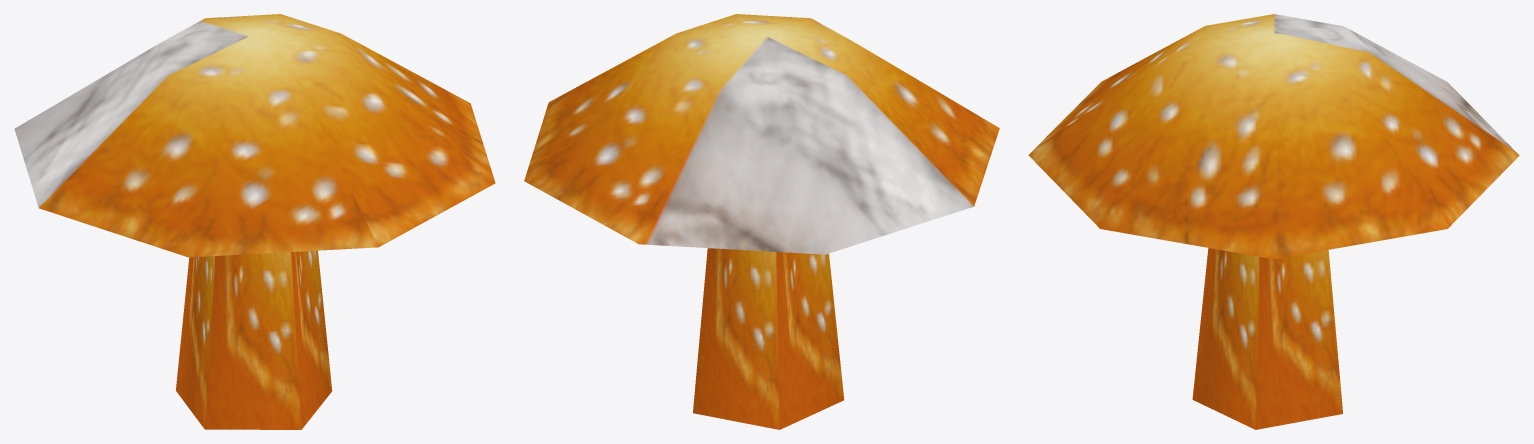
The picture shows the model from 3 angles, left to right: view 1: azimuth 30°, elevation 25°; view 2: azimuth 150°, elevation 25°; view 3: azimuth 270°, elevation 25°; orthographic projection.
Visible parts, largest first — view 1: mushroom; view 2: mushroom; view 3: mushroom.
Boxes of the visible parts, x1=… form: mushroom: x1=14, y1=14, x2=495, y2=429; mushroom: x1=524, y1=14, x2=999, y2=429; mushroom: x1=1028, y1=14, x2=1519, y2=429.
Bounding box in the file's own units: 105 × 85.66 × 105.
1 material, 1 textured.
